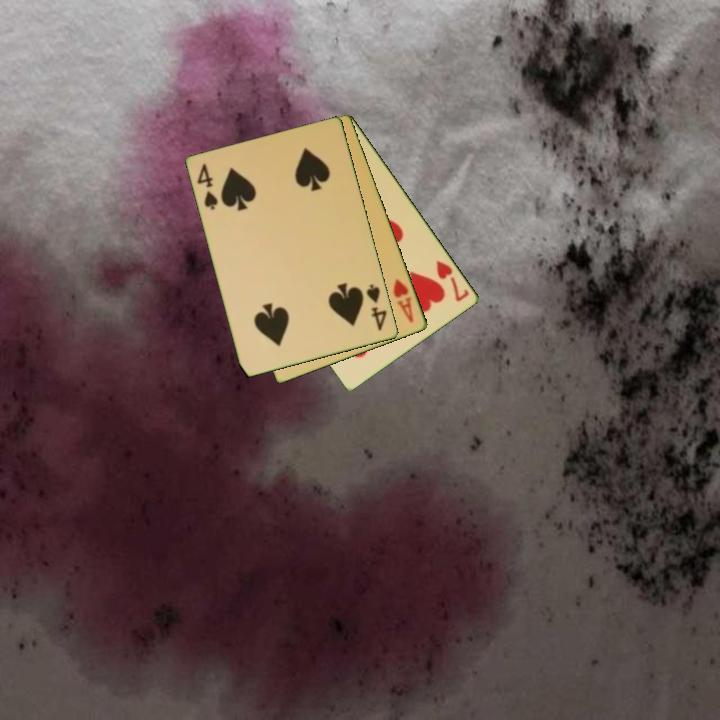4s: (363, 281, 390, 334), (194, 160, 221, 213)
7h: (433, 257, 473, 305)
Ah: (390, 275, 417, 326)
